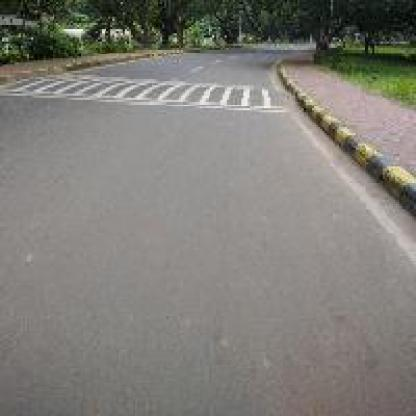Speed Bump: (0, 68, 289, 114)
